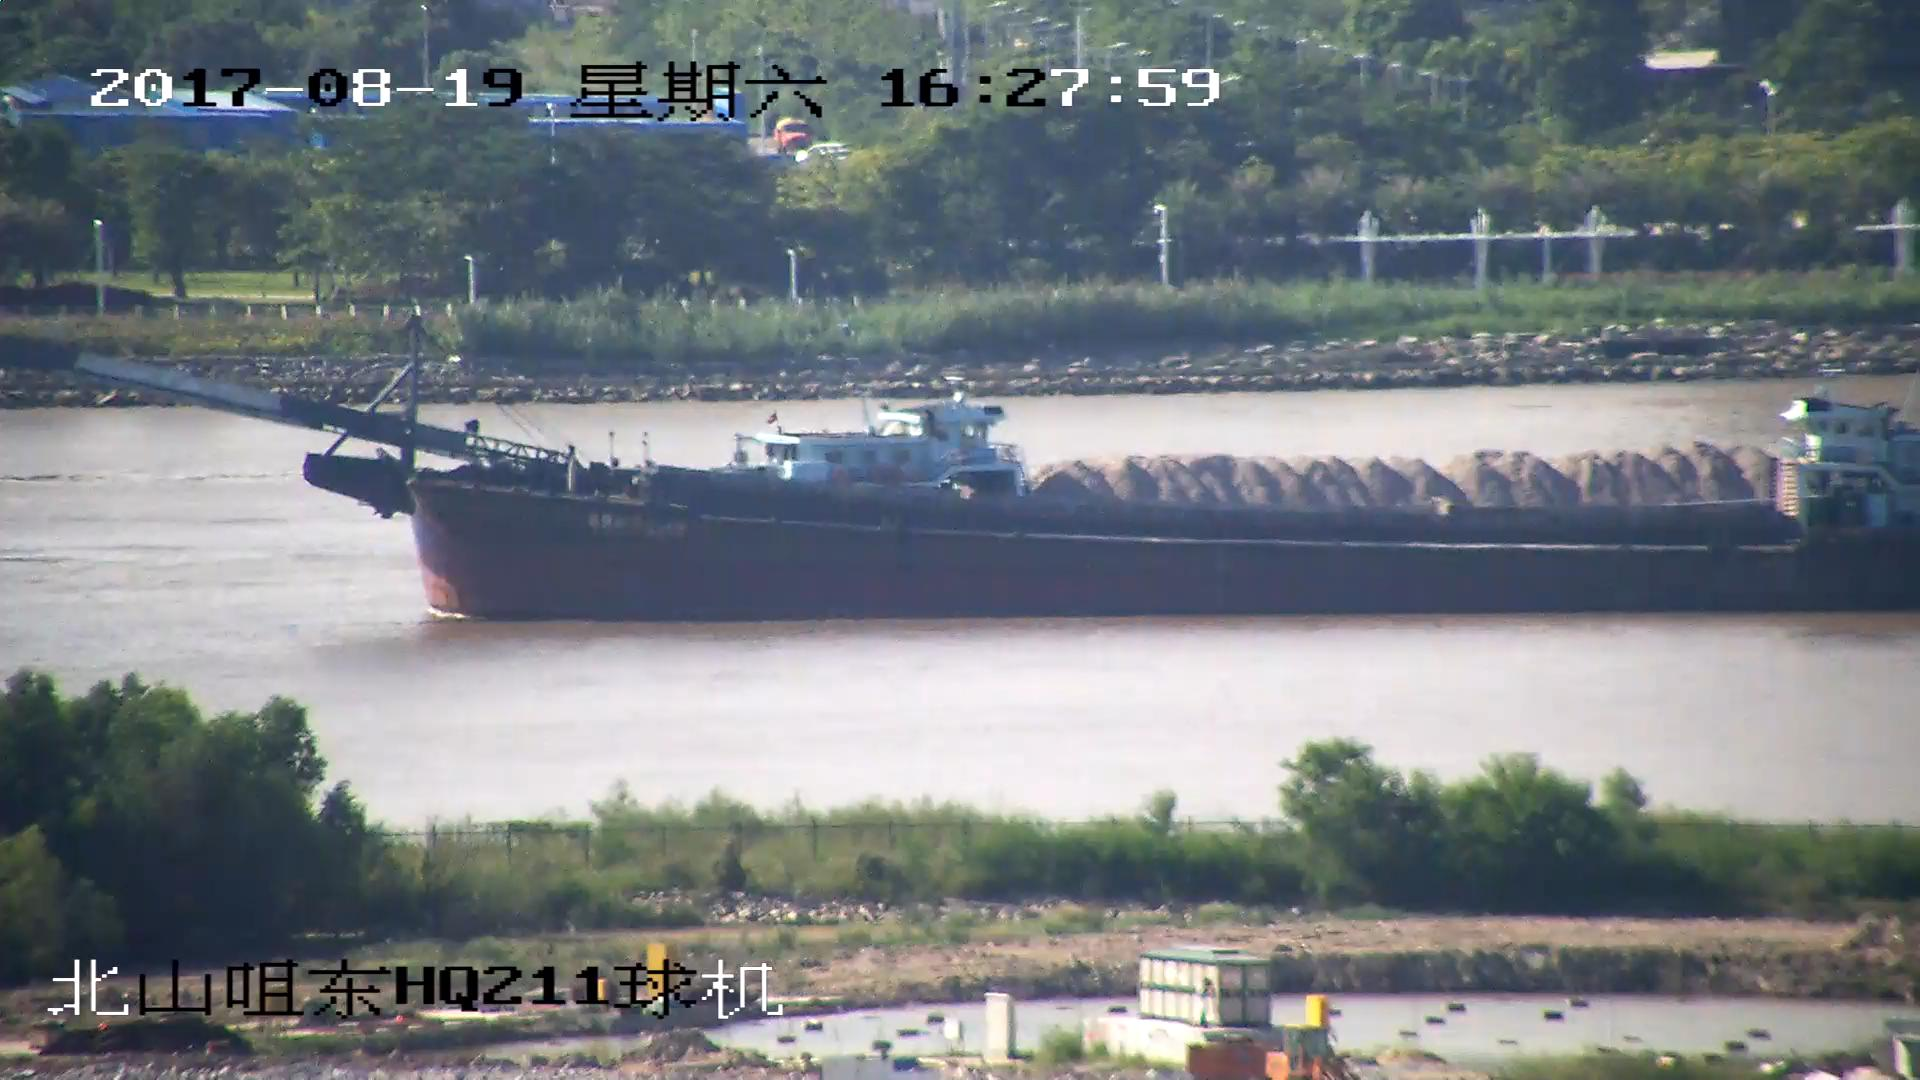bulk cargo carrier: (15, 345, 1920, 618)
ore carrier: (730, 413, 1920, 525)
